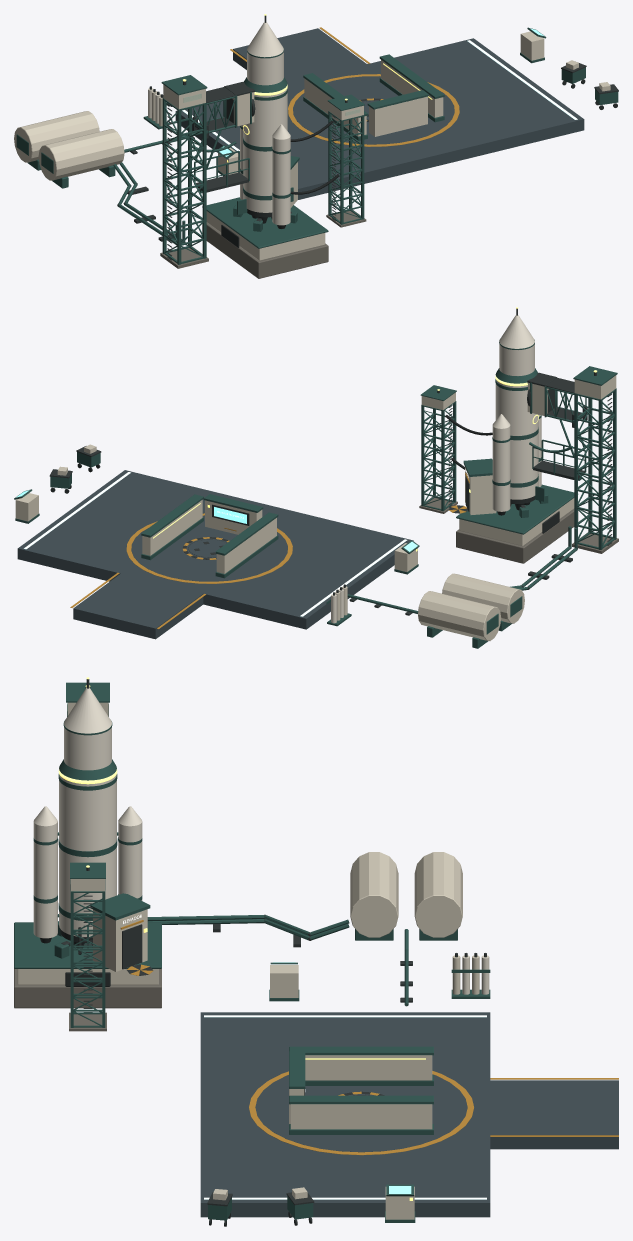
Rendered from plataforma_v006_B3_previa.glb.
3 renders of one model, top to bottom at view 1: azimuth 30°, elevation 25°; view 2: azimuth 150°, elevation 25°; view 3: azimuth 270°, elevation 25°, orthographic. The views are drawn at different scales.
Visible parts, largest first — view 1: ARQ_Piso_Deck, PLAT_B3_Foguete, PLAT_B3_Torre_Servico, PLAT_B3_Base_Lancamento, PROP_Tanques, ARQ_Deck_Marcacoes, PLAT_B3_Mastro_Servico, PLAT_Baia_Parapeitos, PLAT_B3_Braco_Tripulacao, PLAT_B3_Totem_Embarque, PLAT_B3_Linhas_Tanques, PLAT_B3_Passarela_Servico_3m (+5 smaller); view 2: ARQ_Piso_Deck, PLAT_B3_Foguete, PLAT_B3_Torre_Servico, PLAT_B3_Base_Lancamento, ARQ_Deck_Marcacoes, PROP_Tanques, PLAT_Baia_Parapeitos, PLAT_B3_Mastro_Servico, PLAT_B3_Braco_Tripulacao, PLAT_B3_Totem_Embarque, PLAT_B3_Casa_Elevador_Base, PLAT_B3_Passarela_Servico_3m (+7 smaller); view 3: ARQ_Piso_Deck, PLAT_B3_Foguete, PLAT_Baia_Parapeitos, ARQ_Deck_Marcacoes, PLAT_B3_Base_Lancamento, PROP_Tanques, PLAT_B3_Mastro_Servico, PLAT_B3_Casa_Elevador_Base, PLAT_B3_Linhas_Tanques, PLAT_Rack_Cilindros, PLAT_Console_Oeste, PLAT_Console_Leste (+3 smaller).
Part boxes in pixels (box(x1,y1,x2,y2)): ARQ_Piso_Deck: box(175, 28, 584, 199); PLAT_B3_Foguete: box(237, 14, 293, 228); PLAT_B3_Torre_Servico: box(160, 75, 208, 268); PLAT_B3_Base_Lancamento: box(202, 197, 328, 278); PROP_Tanques: box(14, 111, 202, 188); ARQ_Deck_Marcacoes: box(182, 27, 577, 150); PLAT_B3_Mastro_Servico: box(326, 94, 366, 227); PLAT_Baia_Parapeitos: box(303, 54, 444, 140); PLAT_B3_Braco_Tripulacao: box(192, 81, 255, 168); PLAT_B3_Totem_Embarque: box(367, 90, 428, 136); PLAT_B3_Linhas_Tanques: box(113, 162, 185, 245); PLAT_B3_Passarela_Servico_3m: box(194, 150, 249, 193); ARQ_Piso_Deck: box(17, 470, 413, 639); PLAT_B3_Foguete: box(492, 307, 544, 515); PLAT_B3_Torre_Servico: box(572, 366, 618, 553); PLAT_B3_Base_Lancamento: box(456, 484, 578, 563); ARQ_Deck_Marcacoes: box(24, 472, 407, 629); PROP_Tanques: box(347, 573, 524, 648); PLAT_Baia_Parapeitos: box(141, 494, 278, 578); PLAT_B3_Mastro_Servico: box(419, 385, 457, 513); PLAT_B3_Braco_Tripulacao: box(527, 372, 587, 456); PLAT_B3_Totem_Embarque: box(203, 494, 263, 534); PLAT_B3_Casa_Elevador_Base: box(449, 458, 496, 514); PLAT_B3_Passarela_Servico_3m: box(532, 439, 586, 480); ARQ_Piso_Deck: box(200, 1012, 618, 1217); PLAT_B3_Foguete: box(33, 677, 142, 948); PLAT_Baia_Parapeitos: box(289, 1046, 433, 1134); ARQ_Deck_Marcacoes: box(204, 1015, 618, 1199); PLAT_B3_Base_Lancamento: box(14, 921, 161, 1008); PROP_Tanques: box(350, 852, 462, 1006); PLAT_B3_Mastro_Servico: box(69, 862, 106, 1031); PLAT_B3_Casa_Elevador_Base: box(90, 893, 153, 975); PLAT_B3_Linhas_Tanques: box(147, 914, 349, 947); PLAT_Rack_Cilindros: box(451, 953, 490, 998); PLAT_Console_Oeste: box(269, 962, 299, 1001); PLAT_Console_Leste: box(385, 1184, 415, 1222).
Bounding box in the file's own units: 24 × 10.6 × 18.8.
